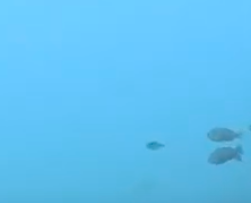smallfish: (202, 123, 246, 144), (202, 146, 245, 166)
